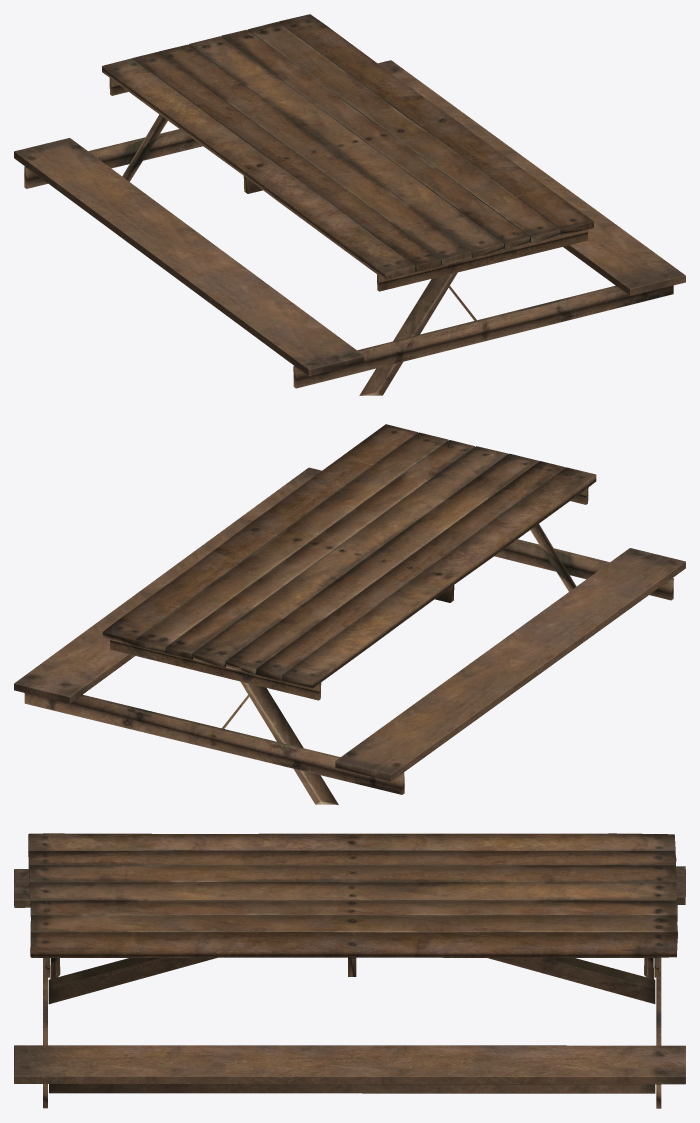
File: wooden_picnic_table.glb
3 views of the same model, one above another, from view 1: azimuth 30°, elevation 25°; view 2: azimuth 150°, elevation 25°; view 3: azimuth 270°, elevation 25° (orthographic). The views are drawn at different scales.
Visible parts, largest first — view 1: wooden_picnic_table; view 2: wooden_picnic_table; view 3: wooden_picnic_table.
Part boxes in pixels (x1,y1,x2,y2): wooden_picnic_table: [14, 14, 685, 395]; wooden_picnic_table: [14, 424, 685, 804]; wooden_picnic_table: [14, 833, 685, 1108].
Bounding box in the file's own units: 2.24 × 0.7438 × 3.02.
2 materials, 2 textured.
